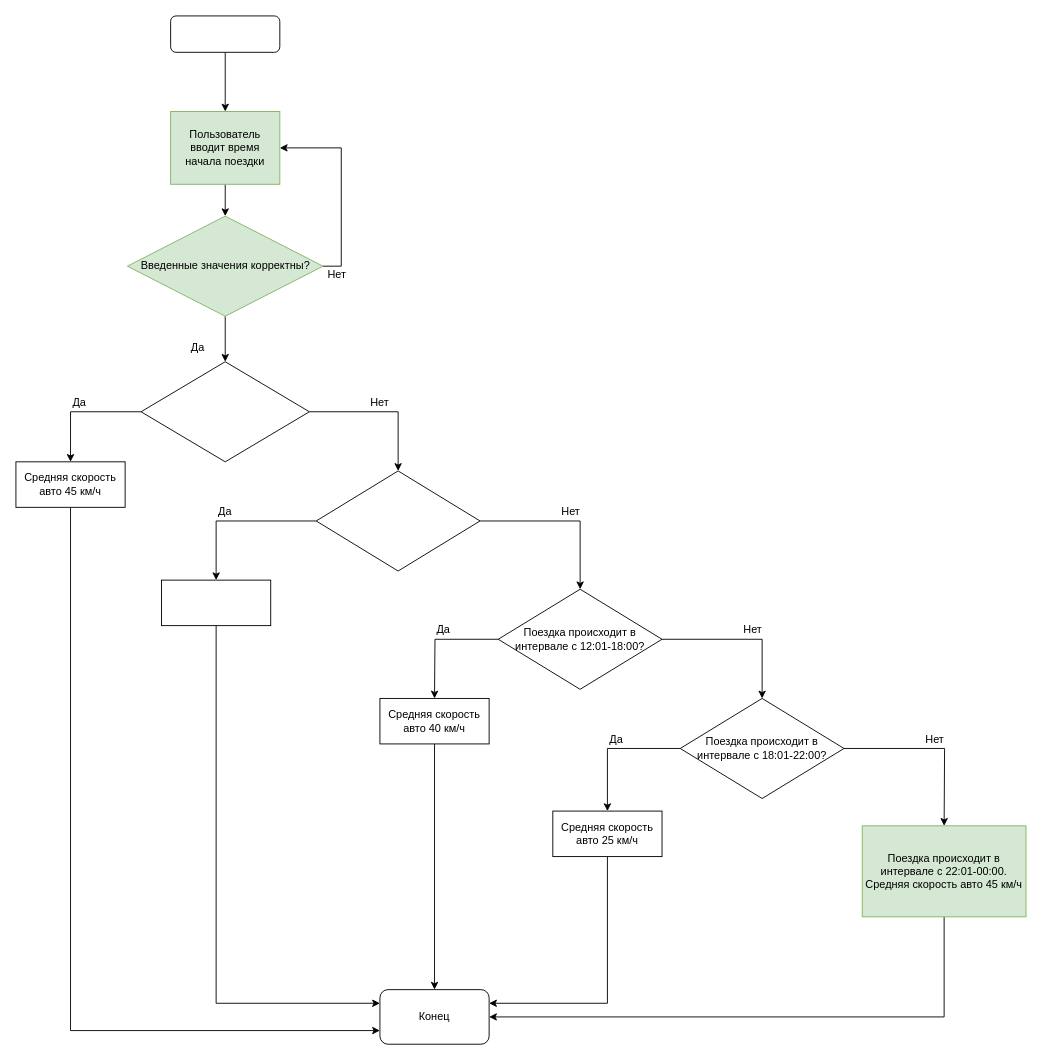
Image size: 1042x1060. Some labels were removed from this diagram. The shapes that lost their labels are listed below. From the top down, each one's centre as x and y in pixels, then its label:
point 225,33: Начало
point 224,411: Поездка происходит в интервале с 00:01-08:00?
point 397,520: Поездка происходит в интервале с 08:01-12:00?
point 216,602: Средняя скорость авто 30 км/ч
